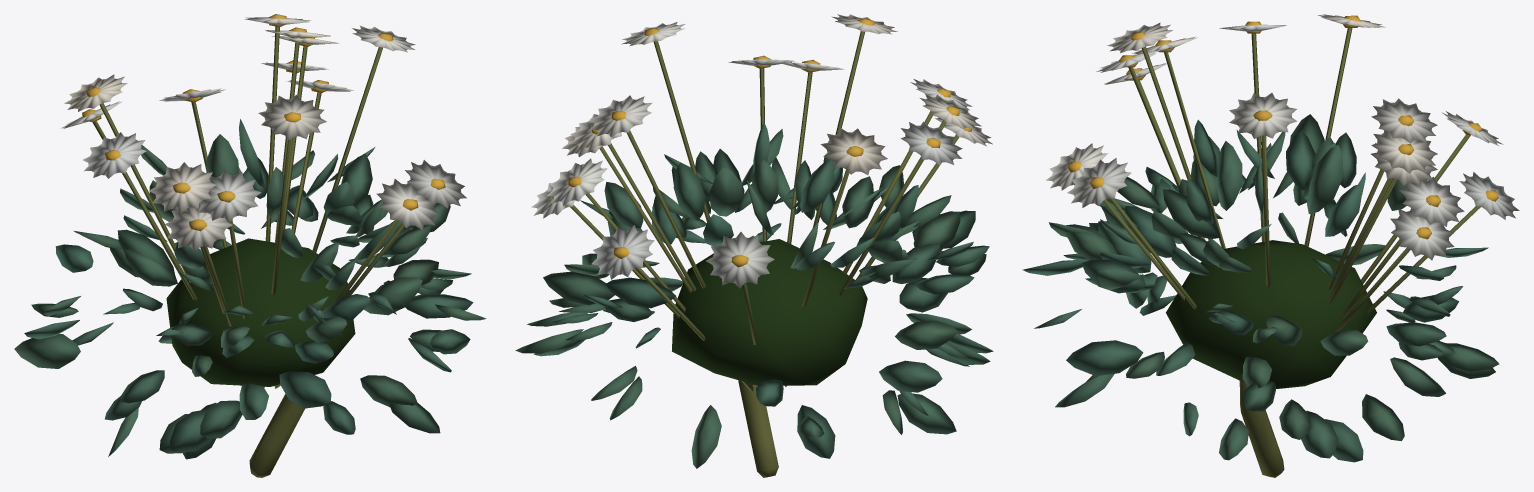
Rendered from bed_marguerite.glb.
The picture shows the model from 3 angles, left to right: view 1: azimuth 30°, elevation 25°; view 2: azimuth 150°, elevation 25°; view 3: azimuth 270°, elevation 25°; orthographic projection. The views are drawn at different scales.
Parts seen in each view (by area): view 1: Sammel Pflanze, Sammel Blatt, Sammel Putz; view 2: Sammel Pflanze, Sammel Blatt, Sammel Putz; view 3: Sammel Pflanze, Sammel Blatt, Sammel Putz.
Boxes of the visible parts, left/top/right/bottom form: Sammel Pflanze: left=14, top=14, right=486, bottom=459; Sammel Blatt: left=166, top=238, right=355, bottom=386; Sammel Putz: left=92, top=26, right=404, bottom=477; Sammel Pflanze: left=515, top=14, right=993, bottom=468; Sammel Blatt: left=672, top=239, right=867, bottom=385; Sammel Putz: left=570, top=31, right=959, bottom=477; Sammel Pflanze: left=1022, top=14, right=1519, bottom=462; Sammel Blatt: left=1166, top=240, right=1376, bottom=388; Sammel Putz: left=1103, top=28, right=1480, bottom=477.
Size of the model in its own units: 0.556 by 0.5371 by 0.5607.
